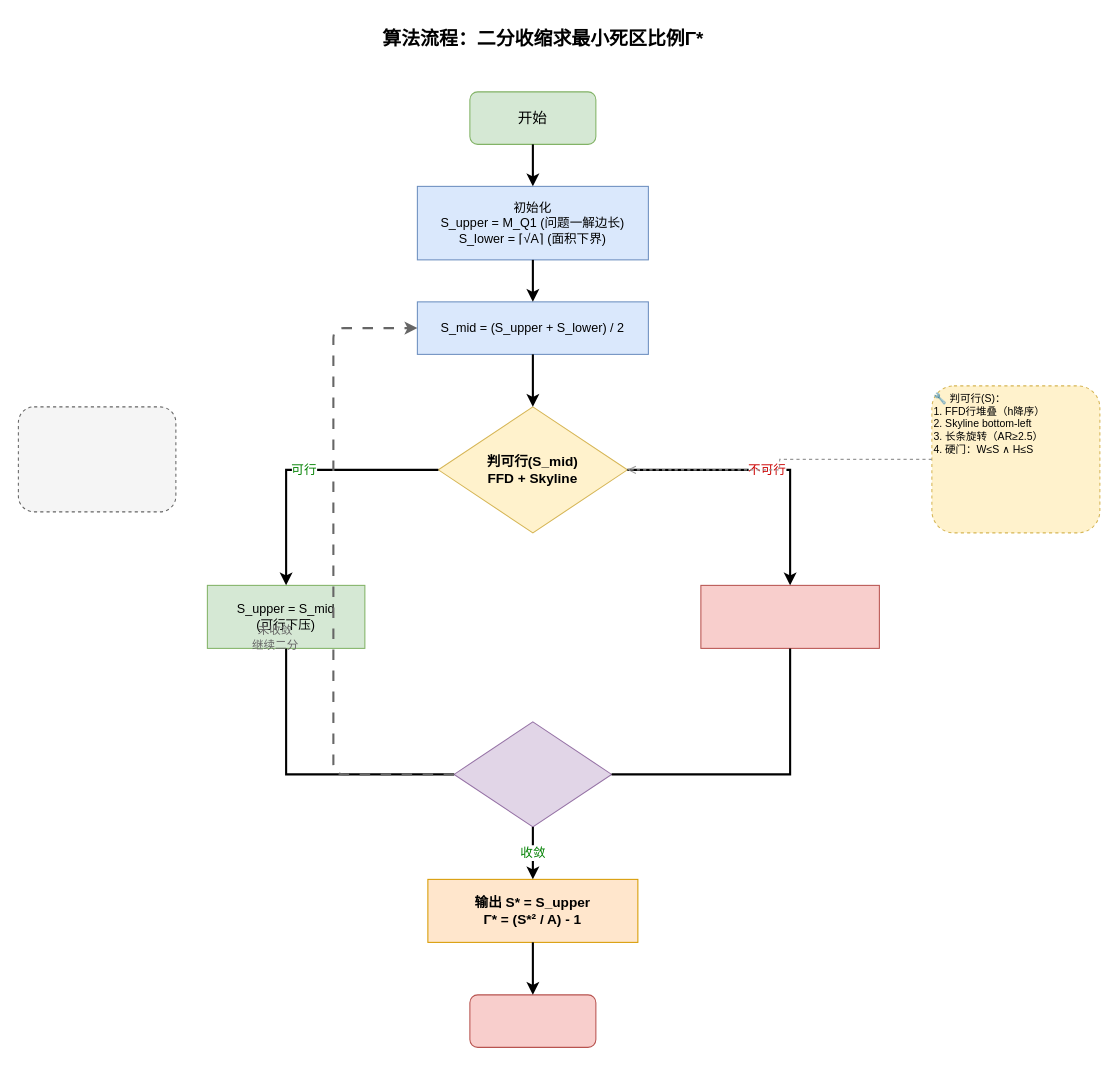
The diagram is 1118 pixels wide and 1066 high, and some of its shapes have lost their labels. Here are the shapes that lost their labels. From the top down, the centre of each, then its label:
At (96,459): "💡 连续可行链： 始终保持S_upper可行， 从Γ=0.15沿Γ下降追踪".
At (789,616): "S_lower = S_mid + 1 (不可行上探)".
At (532,774): "收敛？ |S_upper - S_lower| ≤ 1".
At (532,1020): "结束".
